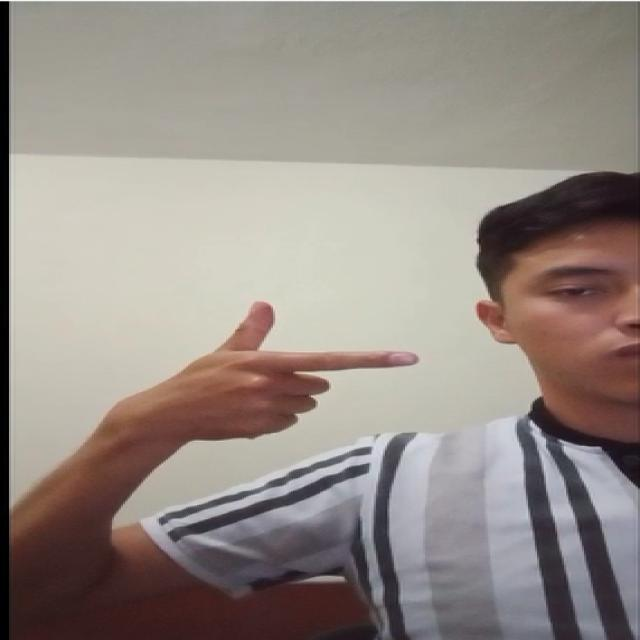G: (106, 298, 463, 462)
